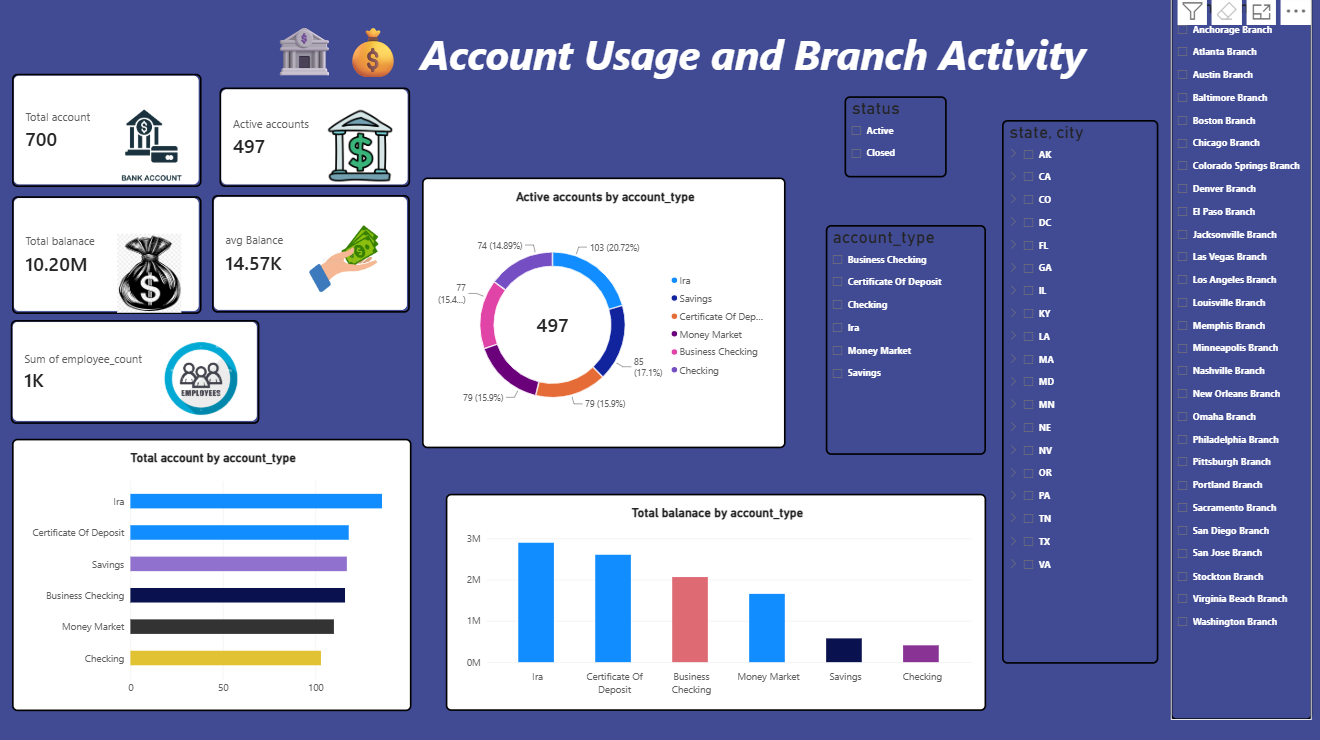

This screenshot's page, from the dashboard's own definition file:
{"tool":"powerbi","page":{"name":"Account Usage and Branch Activity ","canvas":[1920,1080],"ordinal":1},"visuals":[{"type":"textbox","box":[310.8,30.9,1352.3,183.2],"z":0},{"type":"cardVisual","fields":{"Data":["accounts(1).Total account"]},"box":[22,114,274,164],"z":1000},{"type":"cardVisual","fields":{"Data":["accounts(1).Total balanace"]},"box":[21.7,291.7,274,170],"z":2000},{"type":"cardVisual","fields":{"Data":["accounts(1).avg Balance"]},"box":[312,290,286,170],"z":3000},{"type":"cardVisual","fields":{"Data":["accounts.Active accounts"]},"box":[322,134,276,144],"z":4000},{"type":"cardVisual","fields":{"Data":["Sum(branches(1).employee_count)"]},"box":[20,470,360,150],"z":5000},{"type":"barChart","fields":{"Category":["accounts.account_type"],"Y":["accounts.Total account"]},"box":[22,642,578,394],"z":6000},{"type":"columnChart","fields":{"Category":["accounts.account_type"],"Y":["accounts.Total balanace"]},"box":[650,722,782,314],"z":7000},{"type":"donutChart","fields":{"Category":["accounts.account_type"],"Y":["accounts.Active accounts"]},"box":[616,264,526,392],"z":8000},{"type":"slicer","fields":{"Values":["accounts.account_type"]},"box":[1199.8,333,231.6,333],"z":9000},{"type":"slicer","fields":{"Values":["branches(1).branch_name"]},"box":[1699.3,0,204.5,1049.6],"z":10000},{"type":"slicer","fields":{"Values":["accounts.status"]},"box":[1227,146.6,148.4,117.6],"z":11000},{"type":"slicer","fields":{"Values":["branches(1).state","branches(1).city"]},"box":[1455,181,226.2,787.2],"z":12000},{"type":"image","box":[148,146,148,126],"z":13000},{"type":"image","box":[148,346,144,114],"z":14000},{"type":"image","box":[220,500,146,110],"z":15000},{"type":"image","box":[438,306,134,142],"z":16000},{"type":"image","box":[454,164,144,108],"z":17000}]}

Visuals, with their boxes on the page's 1920x1080 design canvas (x1, y1, x2, y2). These are canvas units, not pixel positions in the 1320x740 screenshot, which may show the page scaled, cropped or inside an application window:
textbox: pyautogui.locateOnScreen(311, 31, 1663, 214)
cardVisual - accounts(1).Total account: pyautogui.locateOnScreen(22, 114, 296, 278)
cardVisual - accounts(1).Total balanace: pyautogui.locateOnScreen(22, 292, 296, 462)
cardVisual - accounts(1).avg Balance: pyautogui.locateOnScreen(312, 290, 598, 460)
cardVisual - accounts.Active accounts: pyautogui.locateOnScreen(322, 134, 598, 278)
cardVisual - Sum(branches(1).employee_count): pyautogui.locateOnScreen(20, 470, 380, 620)
barChart - accounts.account_type x accounts.Total account: pyautogui.locateOnScreen(22, 642, 600, 1036)
columnChart - accounts.account_type x accounts.Total balanace: pyautogui.locateOnScreen(650, 722, 1432, 1036)
donutChart - accounts.account_type x accounts.Active accounts: pyautogui.locateOnScreen(616, 264, 1142, 656)
slicer - accounts.account_type: pyautogui.locateOnScreen(1200, 333, 1431, 666)
slicer - branches(1).branch_name: pyautogui.locateOnScreen(1699, 0, 1904, 1050)
slicer - accounts.status: pyautogui.locateOnScreen(1227, 147, 1375, 264)
slicer - branches(1).state x branches(1).city: pyautogui.locateOnScreen(1455, 181, 1681, 968)
image: pyautogui.locateOnScreen(148, 146, 296, 272)
image: pyautogui.locateOnScreen(148, 346, 292, 460)
image: pyautogui.locateOnScreen(220, 500, 366, 610)
image: pyautogui.locateOnScreen(438, 306, 572, 448)
image: pyautogui.locateOnScreen(454, 164, 598, 272)
